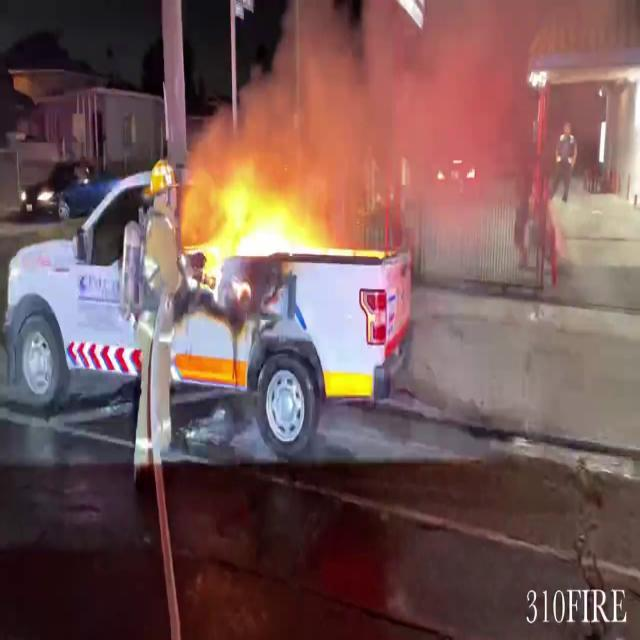Fire: (182, 157, 336, 295)
Smoke: (217, 0, 538, 242)
